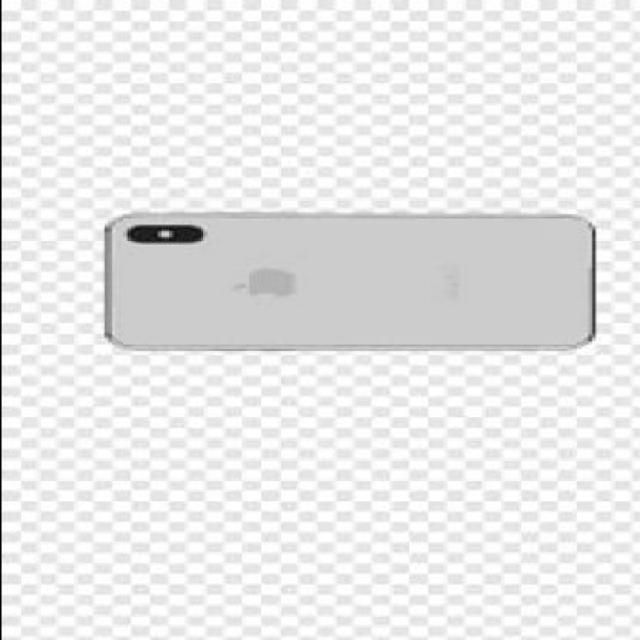fake: (103, 212, 599, 354)
